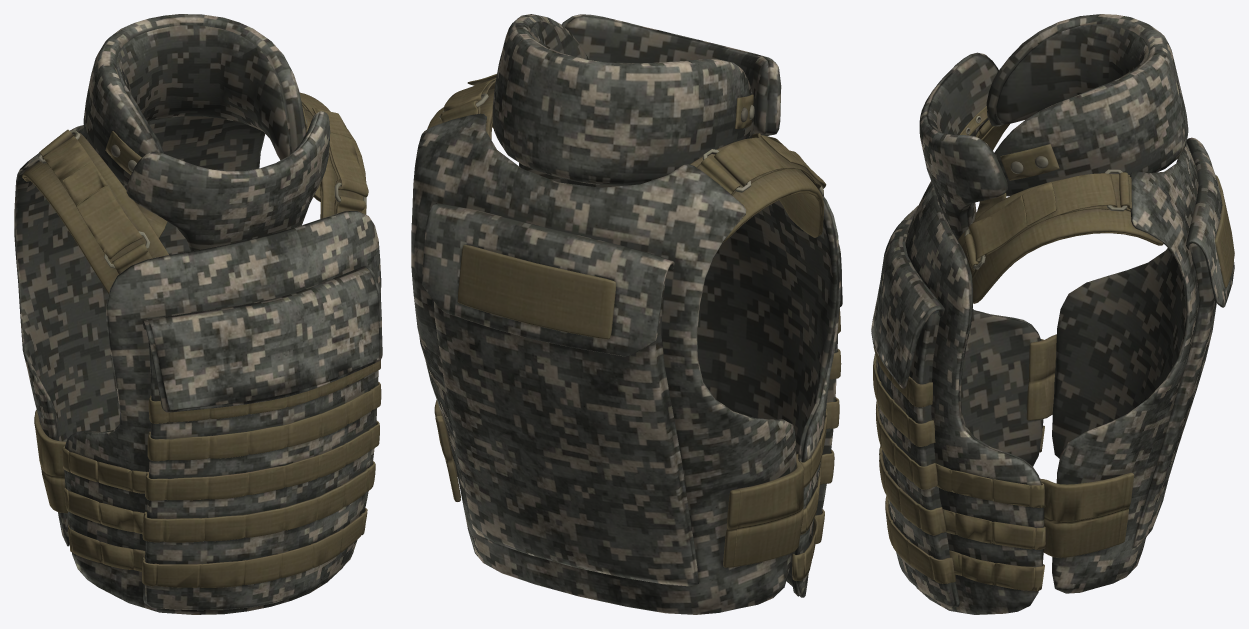
File: heavy_armor.glb
3 views of the same model, side by side, from view 1: azimuth 30°, elevation 25°; view 2: azimuth 150°, elevation 25°; view 3: azimuth 270°, elevation 25° (orthographic). The views are drawn at different scales.
Visible parts, largest first — view 1: heavy_armor_0, heavy_armor_4, heavy_armor_1, heavy_armor_3, heavy_armor_5; view 2: heavy_armor_0, heavy_armor_5, heavy_armor_1, heavy_armor_4, heavy_armor_3; view 3: heavy_armor_0, heavy_armor_4, heavy_armor_1, heavy_armor_5, heavy_armor_3.
Boxes of the visible parts, x1=… form: heavy_armor_0: x1=14, y1=116, x2=381, y2=614; heavy_armor_4: x1=22, y1=92, x2=381, y2=587; heavy_armor_1: x1=83, y1=14, x2=330, y2=251; heavy_armor_3: x1=142, y1=266, x2=382, y2=412; heavy_armor_5: x1=143, y1=341, x2=378, y2=610; heavy_armor_0: x1=411, y1=113, x2=841, y2=614; heavy_armor_5: x1=433, y1=276, x2=837, y2=586; heavy_armor_1: x1=492, y1=14, x2=781, y2=185; heavy_armor_4: x1=427, y1=74, x2=841, y2=580; heavy_armor_3: x1=422, y1=203, x2=842, y2=356; heavy_armor_0: x1=905, y1=142, x2=1199, y2=614; heavy_armor_4: x1=873, y1=106, x2=1234, y2=591; heavy_armor_1: x1=919, y1=14, x2=1188, y2=239; heavy_armor_5: x1=876, y1=243, x2=1216, y2=607; heavy_armor_3: x1=871, y1=137, x2=1234, y2=388.
Size of the model in its own units: 0.3806 by 0.6 by 0.3782.
7 materials, 7 textured.
